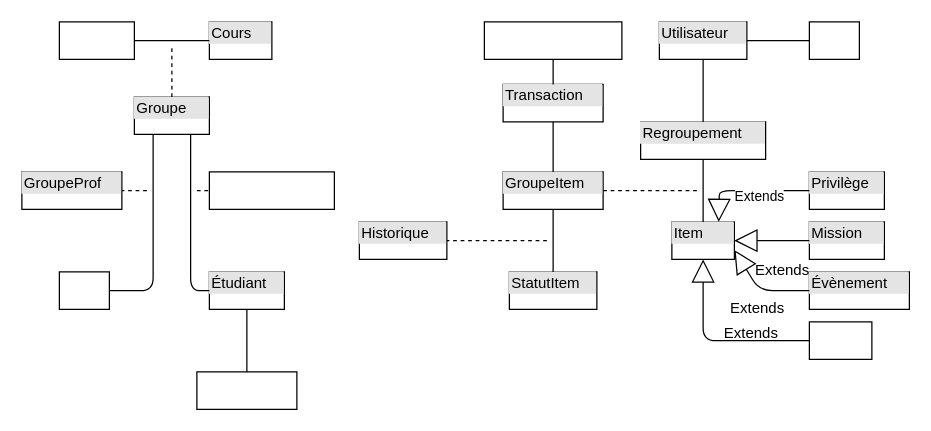
This 931x431 diagram has some shape labels left out. The centre of each missing label's shape, as x and y in pixels:
Asset: point 840,340
GroupeÉtudiant: point 271,190
Prof: point 83,290
Programme: point 246,390
Role: point 833,40
Session: point 96,40
StatutTransaction: point 552,40
